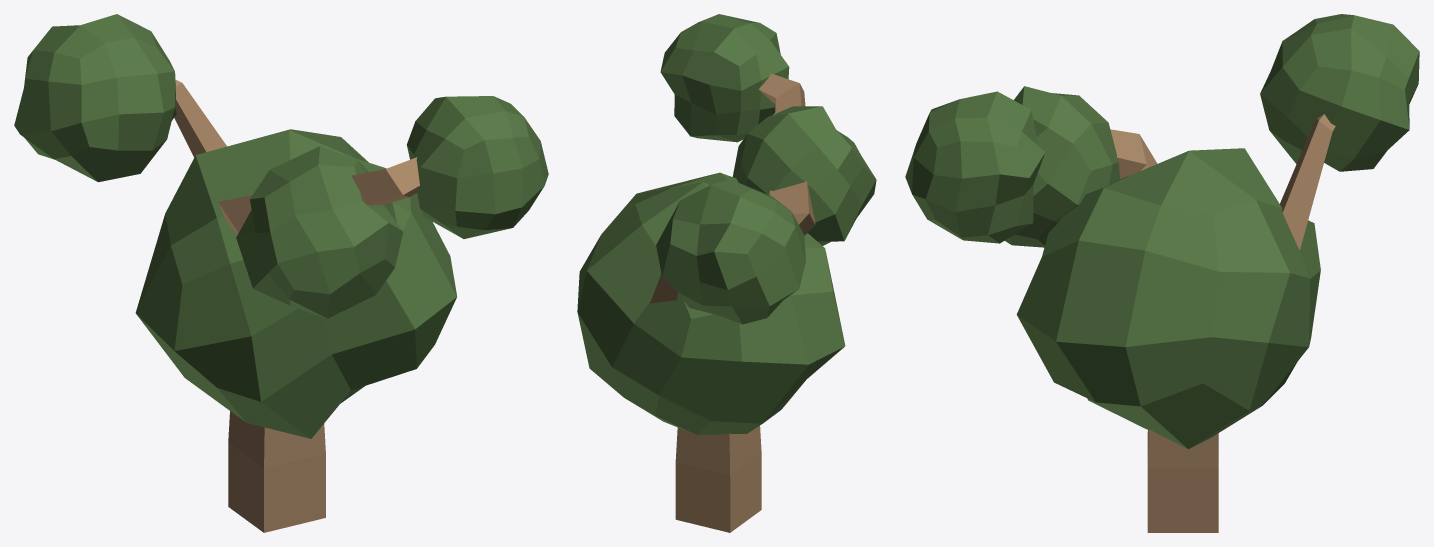
Rendered from Bush 2.fbx.
3 views of the same model, side by side, from view 1: azimuth 30°, elevation 25°; view 2: azimuth 150°, elevation 25°; view 3: azimuth 270°, elevation 25° (orthographic). The views are drawn at different scales.
Parts seen in each view (by area): view 1: Cube.004; view 2: Cube.004; view 3: Cube.004.
Part boxes in pixels (x1,y1,x2,y2): Cube.004: (14,14,548,532); Cube.004: (577,14,876,532); Cube.004: (905,14,1419,532).
Bounding box in the file's own units: 65.07 × 87.35 × 87.9.
